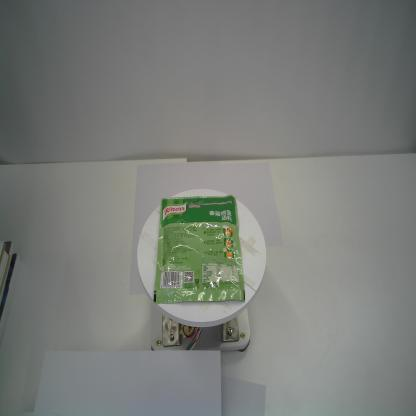Seasoner: (152, 193, 246, 306)
